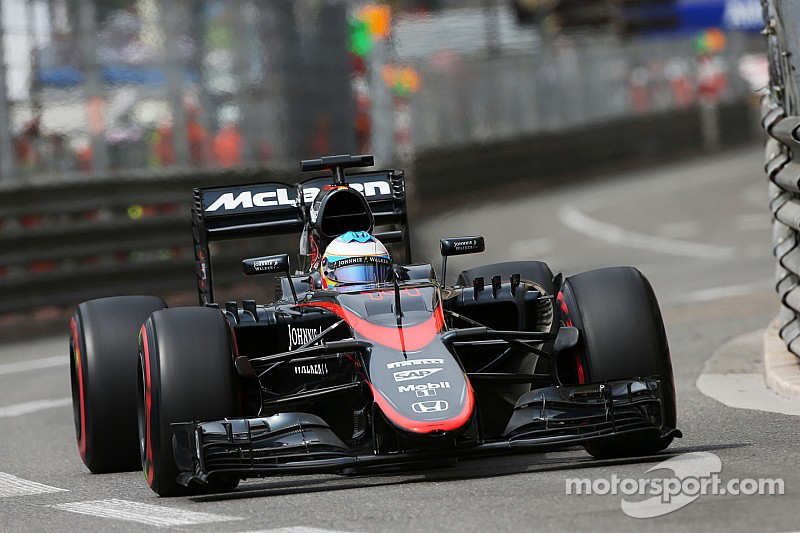F1 Car: (59, 149, 686, 489)
